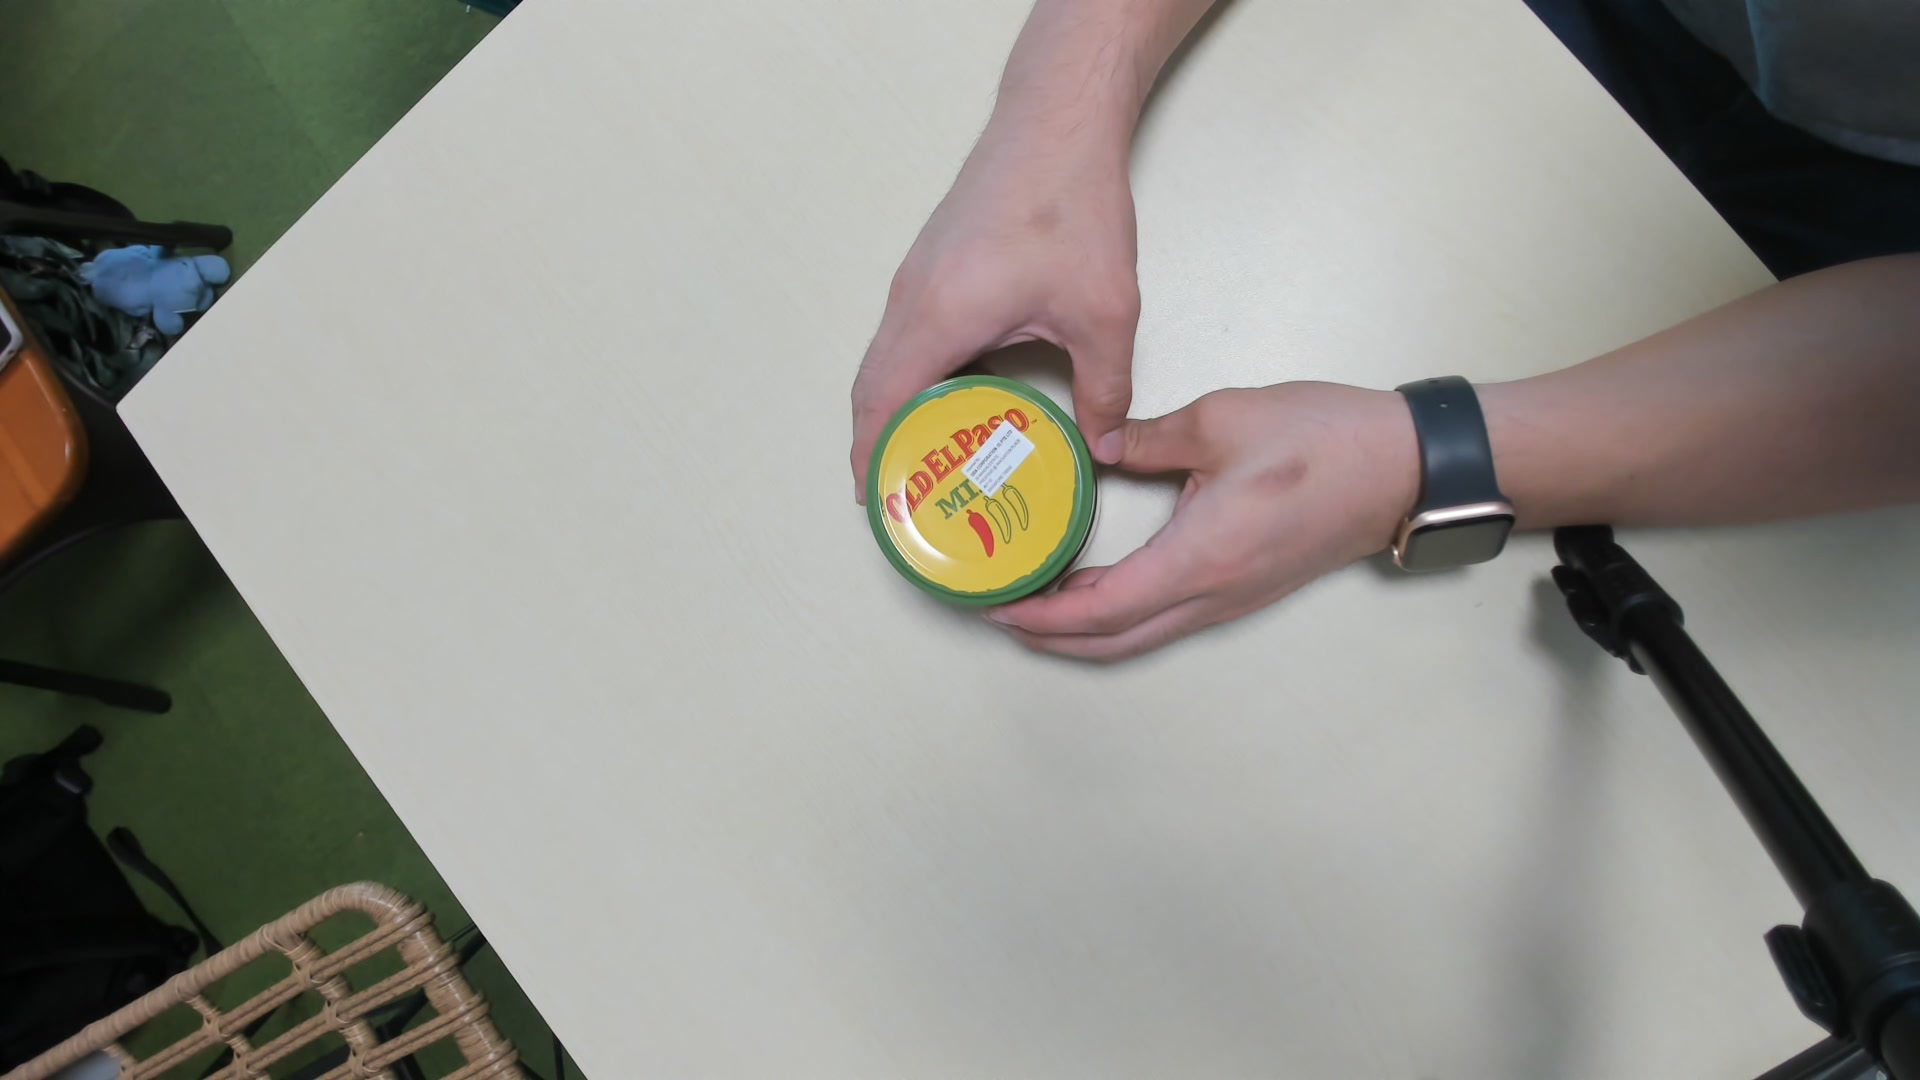OtherSauceDressing_300-399g_NonHalal_NonHealthy: (862, 365, 1095, 607)
